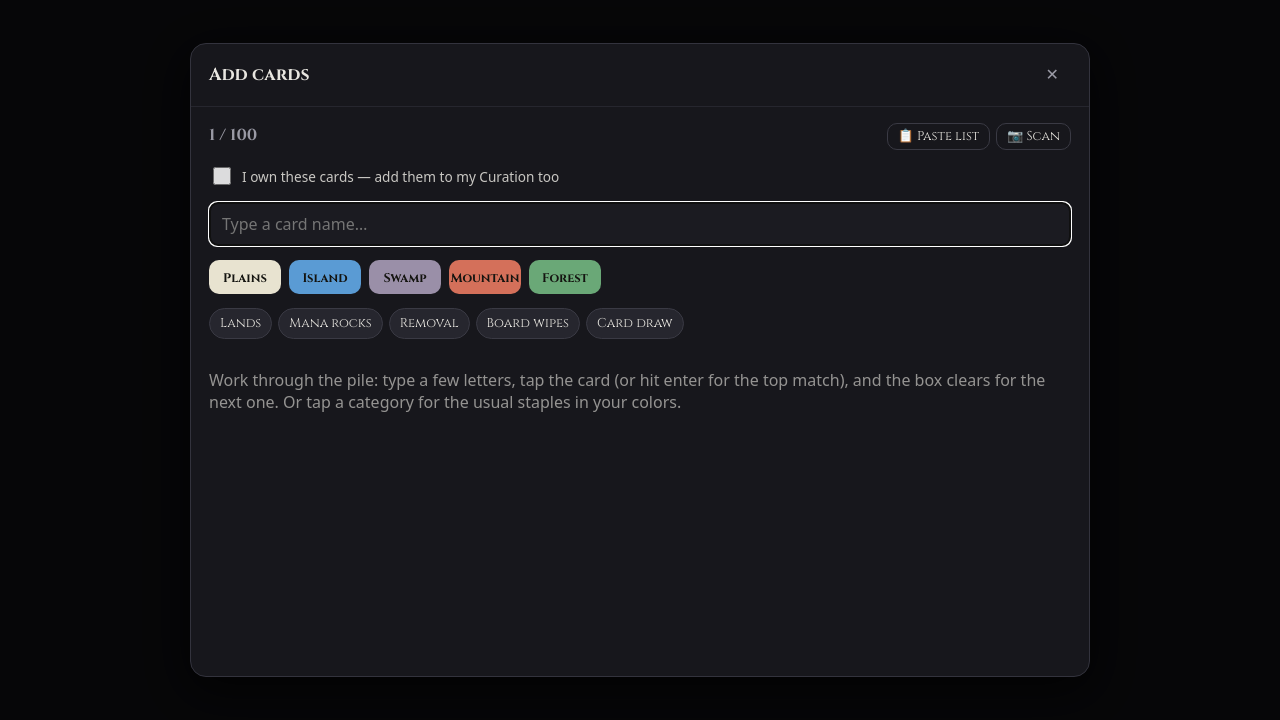
Test case: token cards never appear; real cards show their type line
Type "elemental" into the search field. click: (640, 224)
box: [209,202,1071,246]
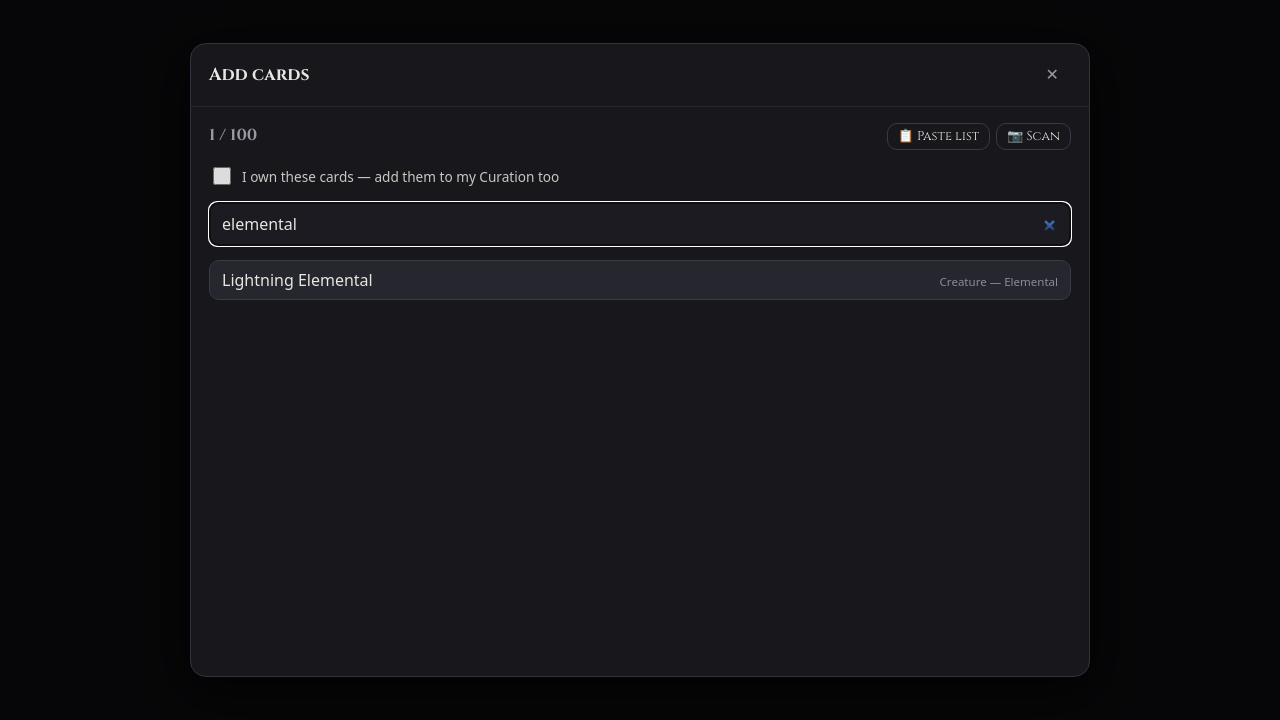
Check: the button "Lightning Elemental Creature — Elemental" is shown, box [209,260,1071,300]
Check: the text "Creature — Elemental" is shown, box [940,274,1058,289]
